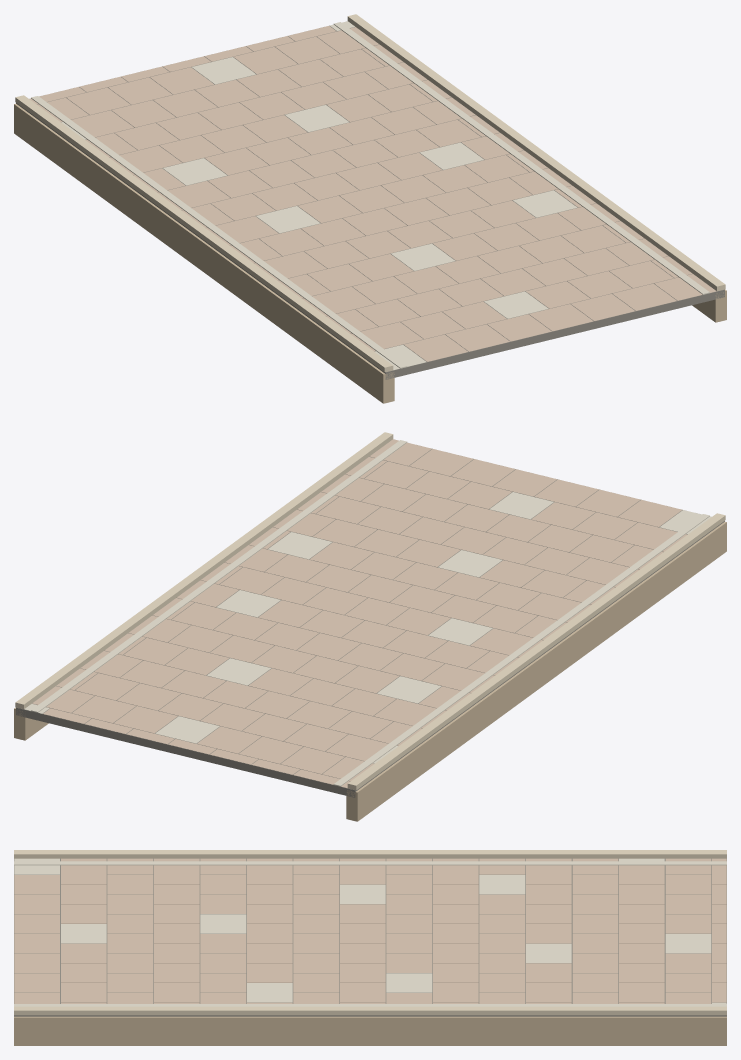
File: Promenade01.glb
3 views of the same model, one above another, from view 1: azimuth 30°, elevation 25°; view 2: azimuth 150°, elevation 25°; view 3: azimuth 270°, elevation 25° (orthographic). The views are drawn at different scales.
Parts seen in each view (by area): view 1: Promenade01; view 2: Promenade01; view 3: Promenade01.
Part boxes in pixels (bbox=[...]): Promenade01: bbox=[14, 14, 726, 403]; Promenade01: bbox=[14, 432, 726, 821]; Promenade01: bbox=[14, 850, 726, 1045].
Bounding box in the file's own units: 12.76 × 1.27 × 23.76.
